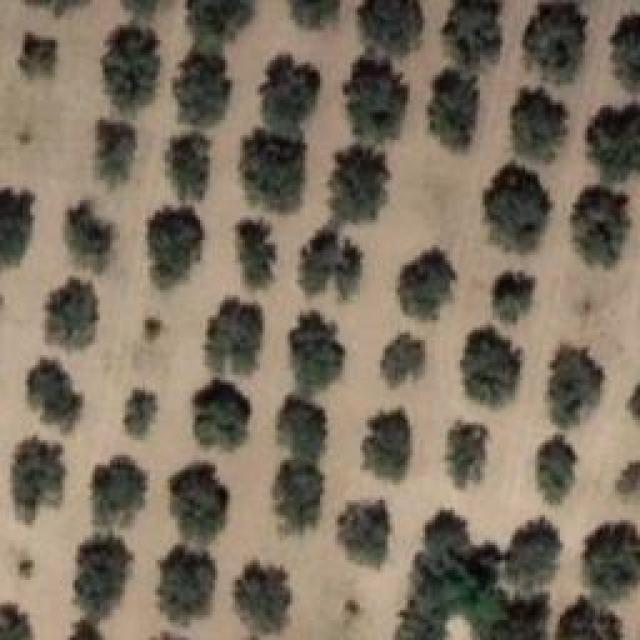Tree: (474, 155, 552, 249), (515, 0, 593, 84), (567, 183, 637, 270), (543, 343, 608, 436), (280, 310, 348, 396), (460, 323, 528, 409), (343, 57, 409, 142), (240, 133, 310, 212), (508, 90, 576, 169), (577, 525, 639, 610), (102, 25, 160, 111), (258, 53, 321, 130), (78, 535, 134, 621), (393, 243, 456, 319), (13, 438, 68, 525), (330, 145, 391, 223), (170, 464, 229, 544), (585, 100, 640, 185), (160, 545, 218, 625), (300, 228, 364, 300), (173, 50, 232, 127), (25, 358, 87, 431), (148, 208, 203, 290), (430, 65, 479, 153), (208, 298, 264, 374), (443, 0, 506, 65), (192, 380, 250, 450), (233, 215, 283, 296), (502, 523, 561, 591), (93, 455, 148, 527), (270, 390, 325, 462), (363, 410, 415, 486), (93, 118, 145, 194), (238, 560, 290, 634), (338, 497, 392, 567), (63, 200, 116, 270), (48, 278, 99, 349), (357, 0, 422, 54), (188, 0, 254, 52), (533, 437, 581, 508), (275, 465, 323, 535), (447, 420, 492, 493), (375, 333, 427, 393), (607, 2, 640, 95), (168, 133, 212, 201), (485, 267, 537, 324), (555, 600, 623, 640), (0, 190, 34, 267), (18, 32, 58, 77), (287, 0, 344, 30), (125, 390, 159, 438), (425, 513, 465, 553), (0, 598, 38, 640), (615, 453, 640, 508), (118, 0, 173, 24), (55, 620, 105, 640), (625, 385, 640, 418), (145, 318, 163, 341)
